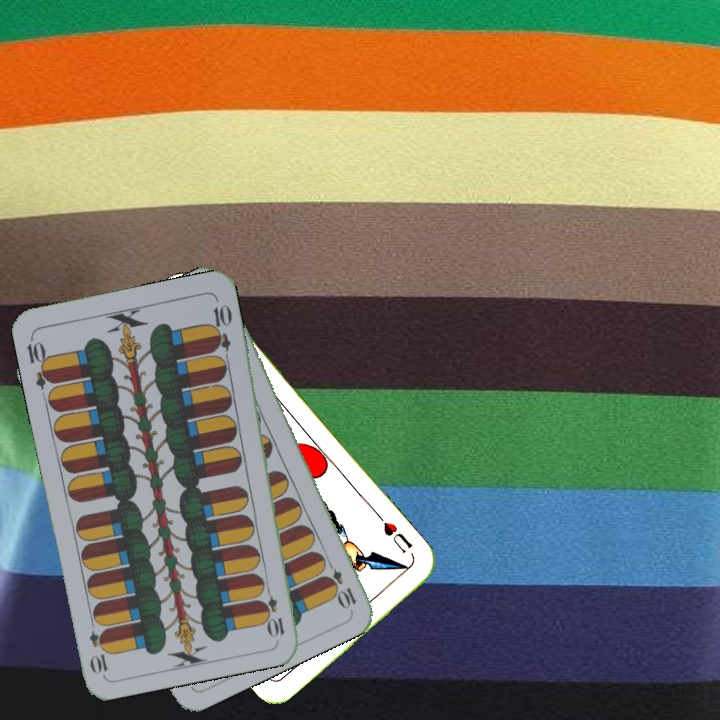E10: (320, 555, 359, 611), (23, 332, 57, 391), (260, 581, 287, 640)
HU: (379, 518, 415, 556)
